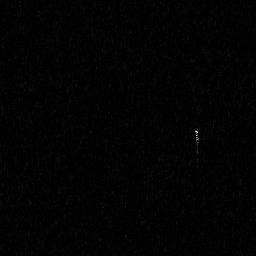ship: (193, 126, 200, 169)
